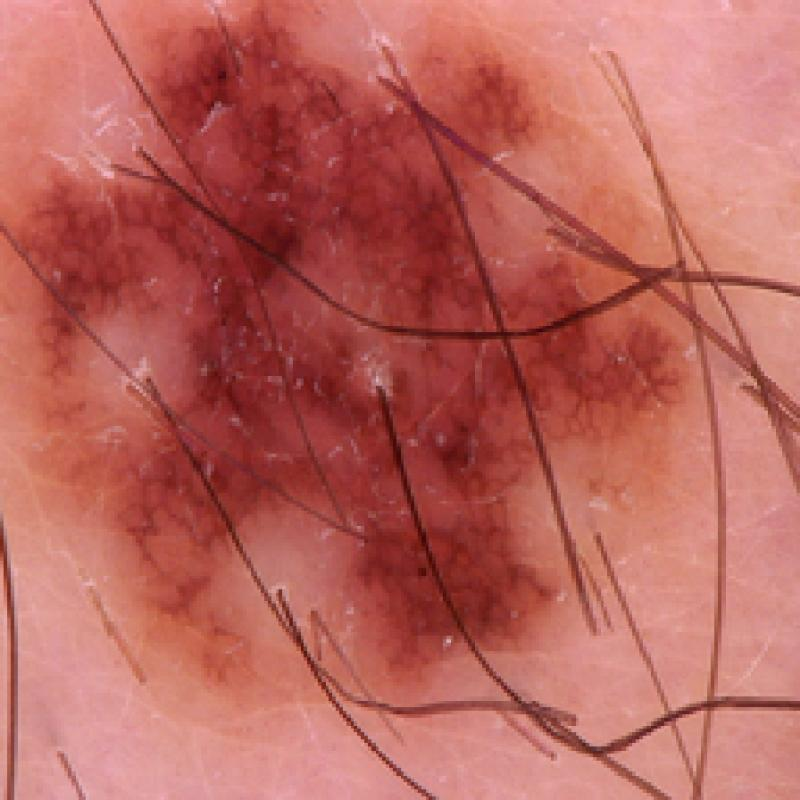benign: (15, 22, 708, 692)
